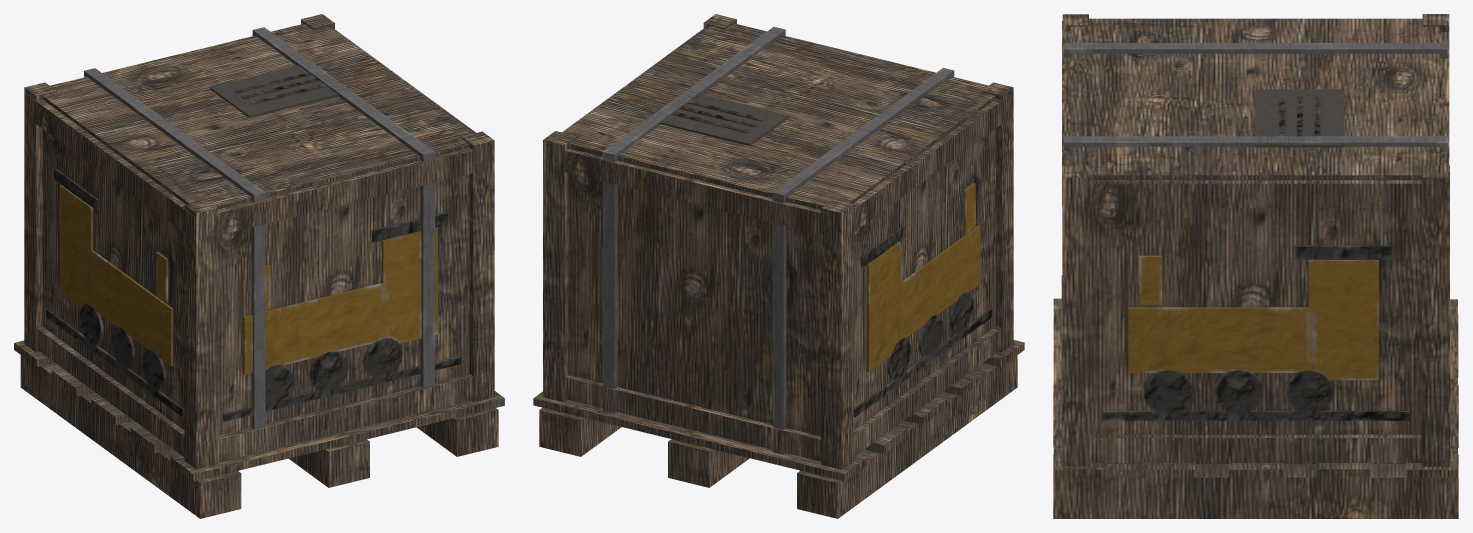
File: feTrainLoco_HD.fbx
3 views of the same model, side by side, from view 1: azimuth 30°, elevation 25°; view 2: azimuth 150°, elevation 25°; view 3: azimuth 270°, elevation 25° (orthographic). The views are drawn at different scales.
Parts seen in each view (by area): view 1: feTrainLoco_Kit; view 2: feTrainLoco_Kit; view 3: feTrainLoco_Kit.
Boxes of the visible parts, x1=… form: feTrainLoco_Kit: x1=14, y1=14, x2=504, y2=518; feTrainLoco_Kit: x1=533, y1=14, x2=1024, y2=518; feTrainLoco_Kit: x1=1053, y1=14, x2=1458, y2=518.
Size of the model in its own units: 0.9248 by 0.8653 by 0.9236.
Materials: 1 (1 with a texture image).
